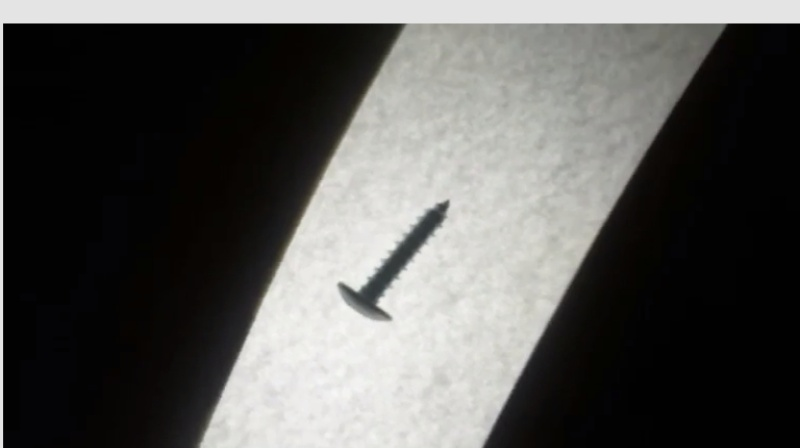S003: (331, 194, 456, 326)
